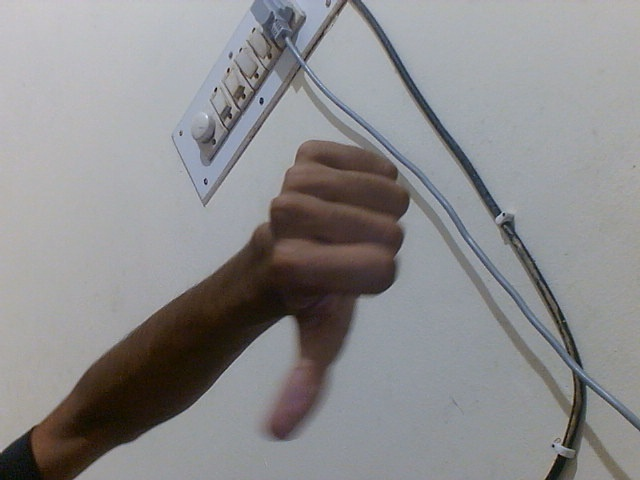hand: (260, 133, 412, 450)
